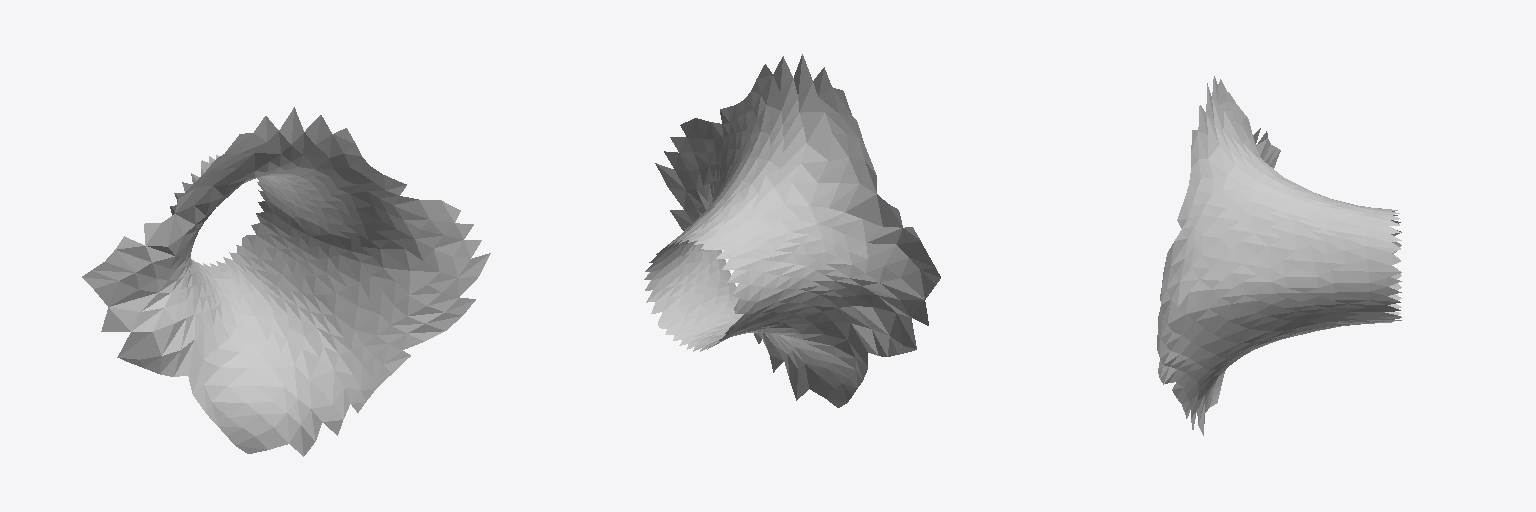
The model's file is flower3_opt_final.obj.
3 views of the same model, side by side, from view 1: azimuth 30°, elevation 25°; view 2: azimuth 150°, elevation 25°; view 3: azimuth 270°, elevation 25° (orthographic).
Parts seen in each view (by area): view 1: samples/flower3_opt_final; view 2: samples/flower3_opt_final; view 3: samples/flower3_opt_final.
Part boxes in pixels (x1,y1,x2,y2): samples/flower3_opt_final: (82,107,490,456); samples/flower3_opt_final: (644,54,940,407); samples/flower3_opt_final: (1157,76,1401,435).
Bounding box in the file's own units: 22.51 × 21.67 × 13.73.